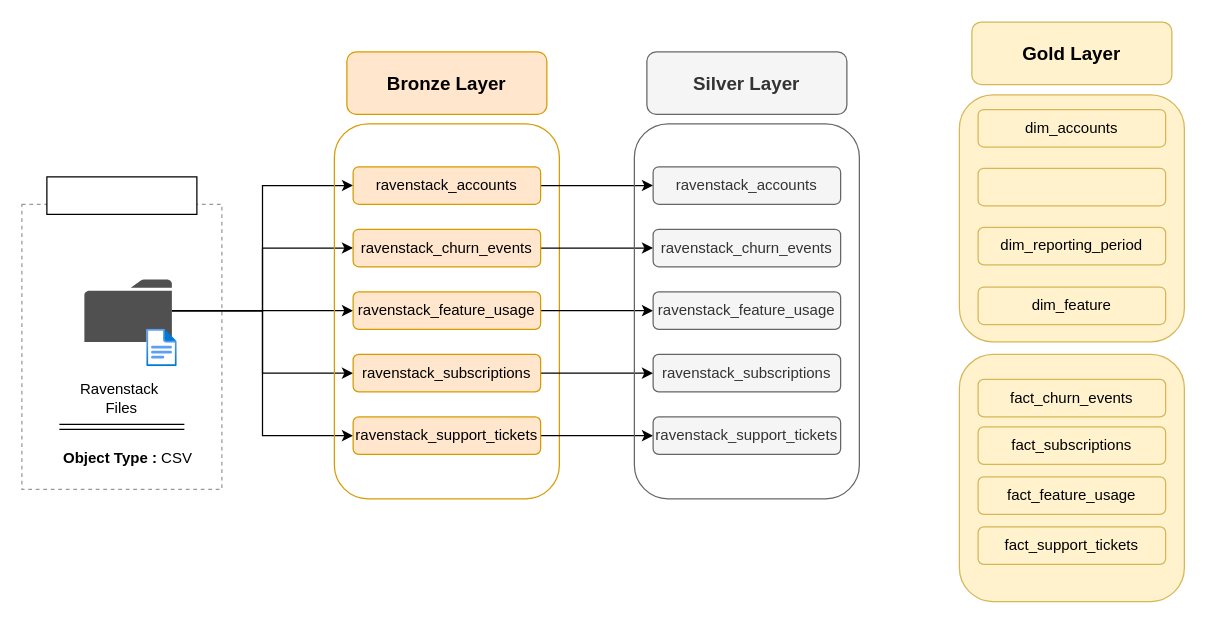
The diagram is 1206 pixels wide and 624 high, and some of its shapes have lost their labels. The centre of each missing label's shape, as x and y in pixels:
"dim_plan" goes at [1071,186].
"Sources" goes at [121,195].
